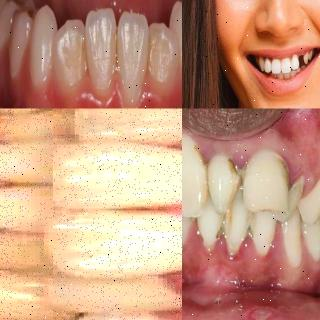Gum Swelling: (182, 128, 320, 200), (182, 218, 320, 284)
calculus: (226, 156, 260, 200), (274, 146, 297, 196), (207, 210, 236, 248), (192, 143, 216, 180), (239, 212, 263, 244), (285, 174, 306, 210)
maligned: (52, 277, 182, 320), (245, 143, 291, 216), (0, 109, 88, 147), (48, 17, 92, 91), (149, 23, 180, 108), (208, 152, 240, 217), (276, 174, 304, 222), (261, 57, 274, 76)
